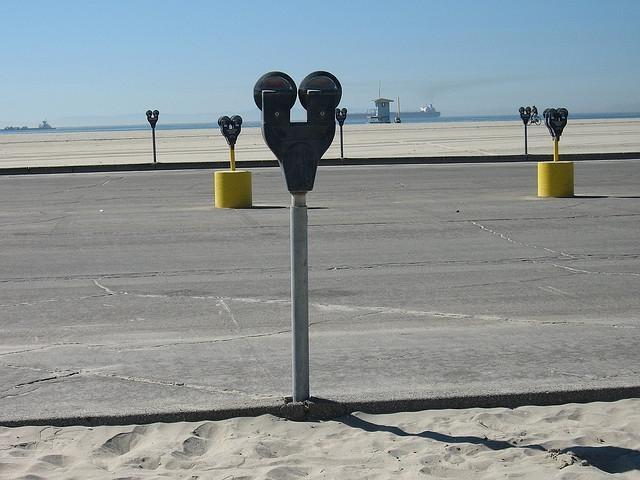bicycle: (528, 114, 542, 126)
